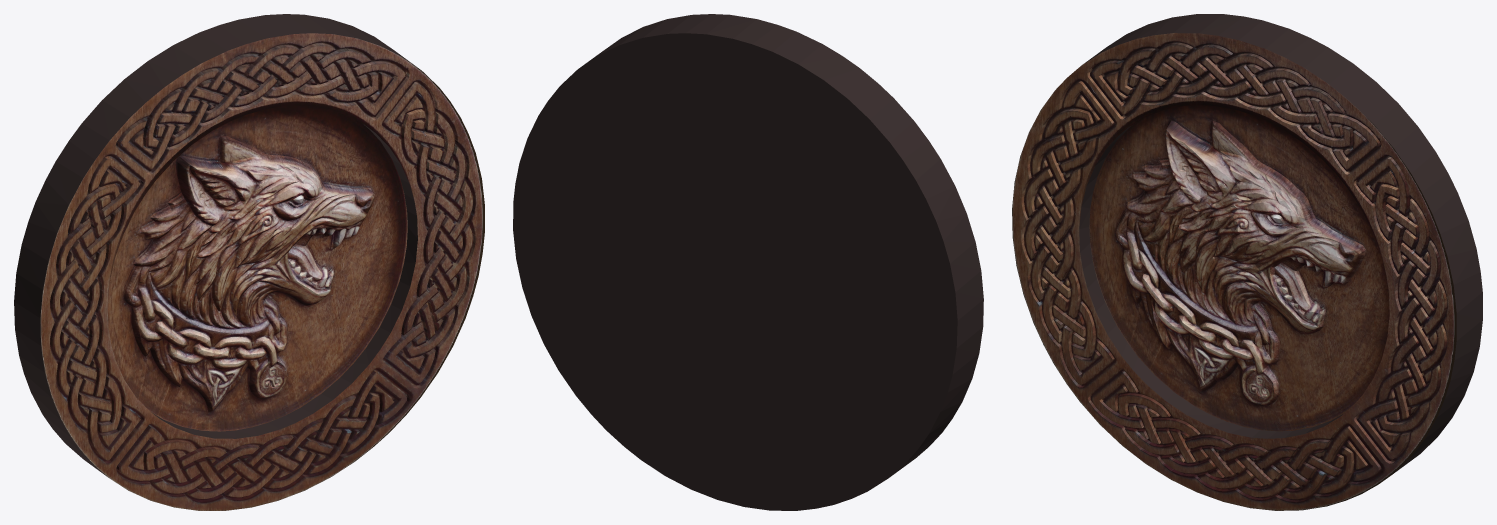
File: wolf.glb
3 views of the same model, side by side, from view 1: azimuth 30°, elevation 25°; view 2: azimuth 150°, elevation 25°; view 3: azimuth 330°, elevation 25° (orthographic).
Parts seen in each view (by area): view 1: wolf-valec; view 2: wolf-valec; view 3: wolf-valec.
Part boxes in pixels (left/top/right/bottom): wolf-valec: left=14, top=14, right=484, bottom=510; wolf-valec: left=513, top=14, right=983, bottom=510; wolf-valec: left=1012, top=14, right=1482, bottom=510.
Size of the model in its own units: 0.2149 by 0.215 by 0.022.
3 materials, 2 textured.
